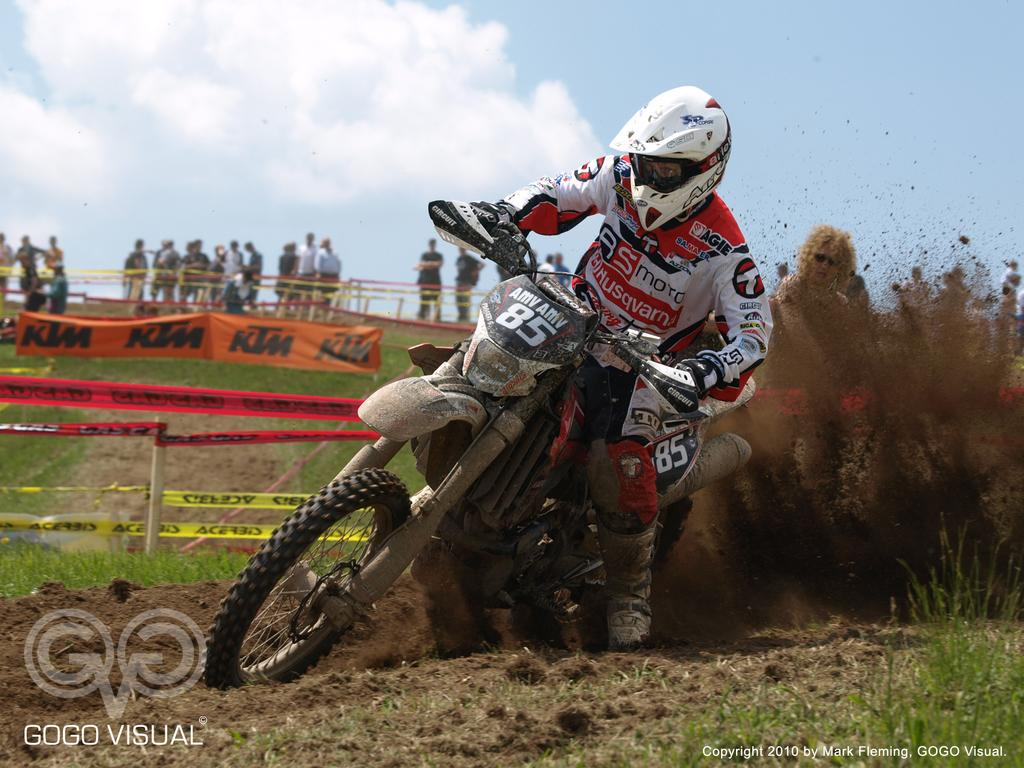helmet: (609, 86, 732, 232)
